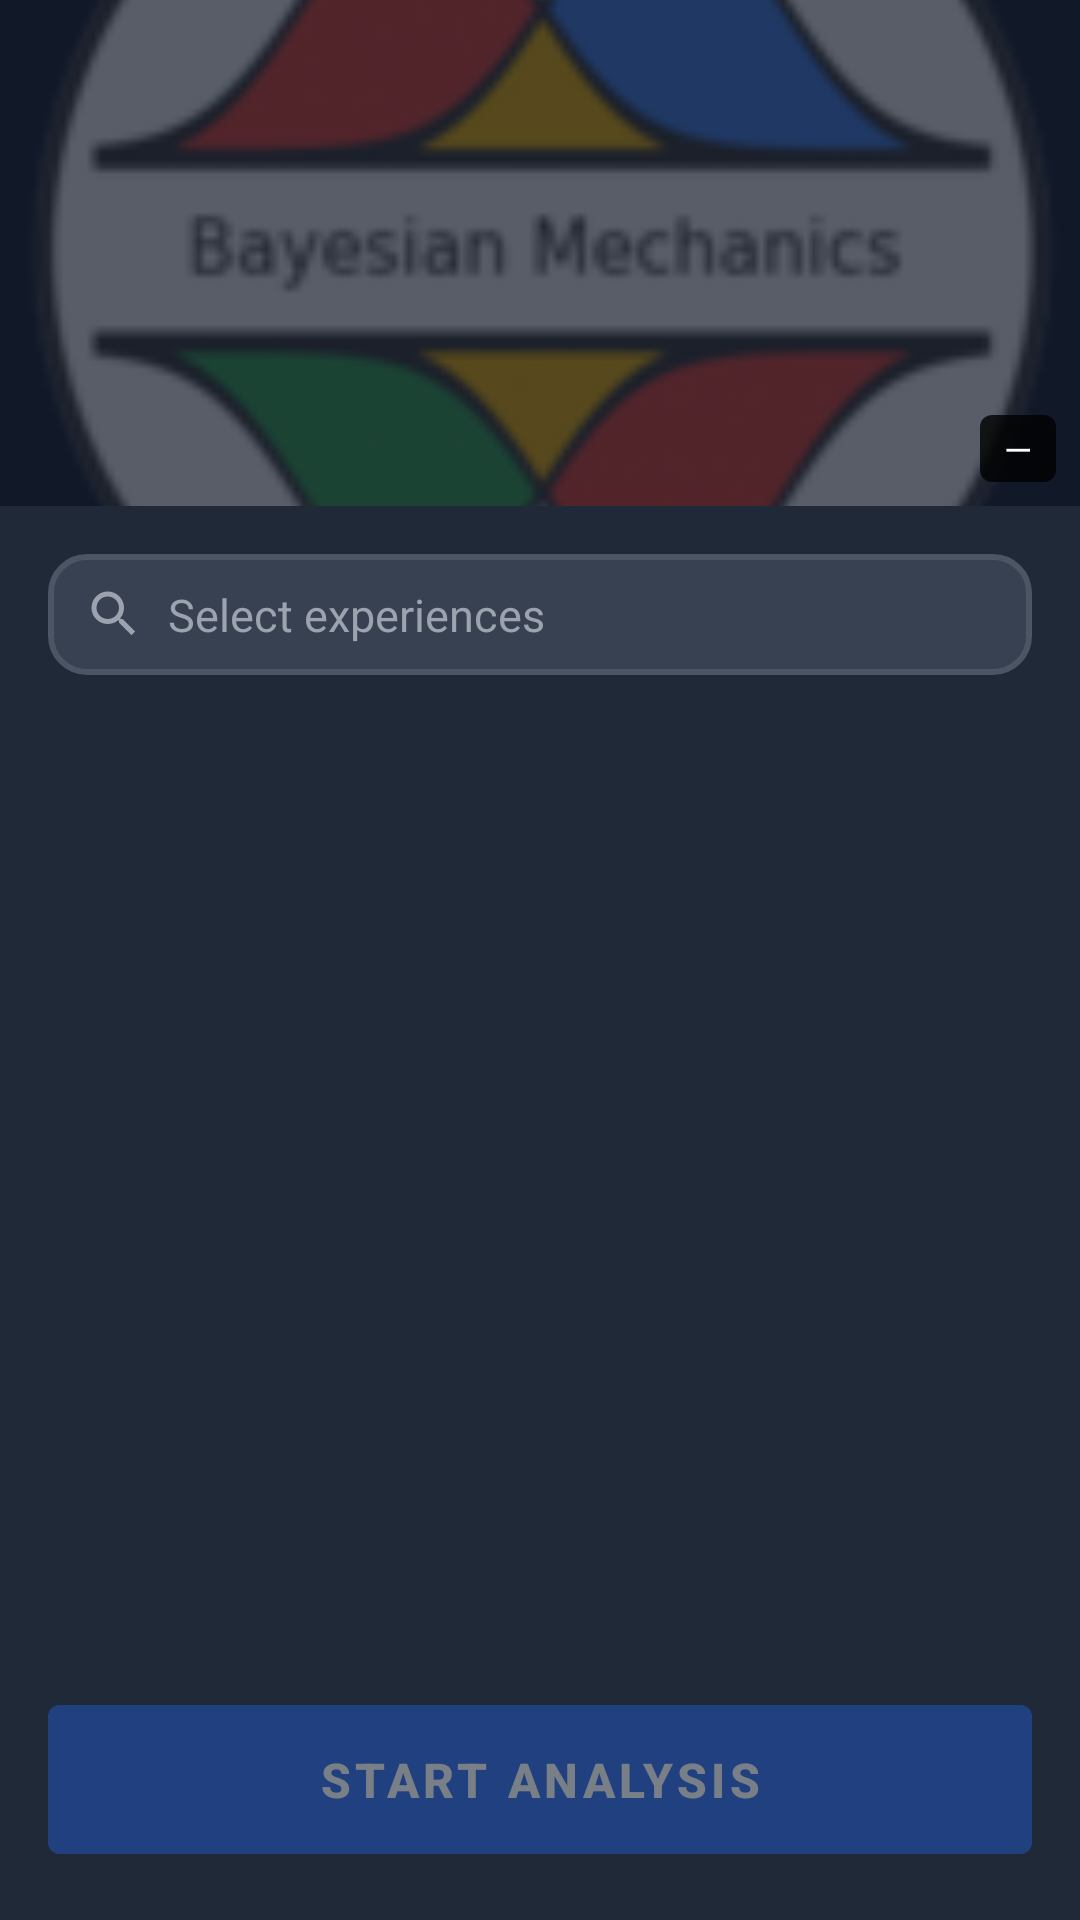

Screen size 1080px x 1920px. Icon name, then its box in pixels as (x1, y1, x2, y2):
Search: (91, 591, 135, 635)
